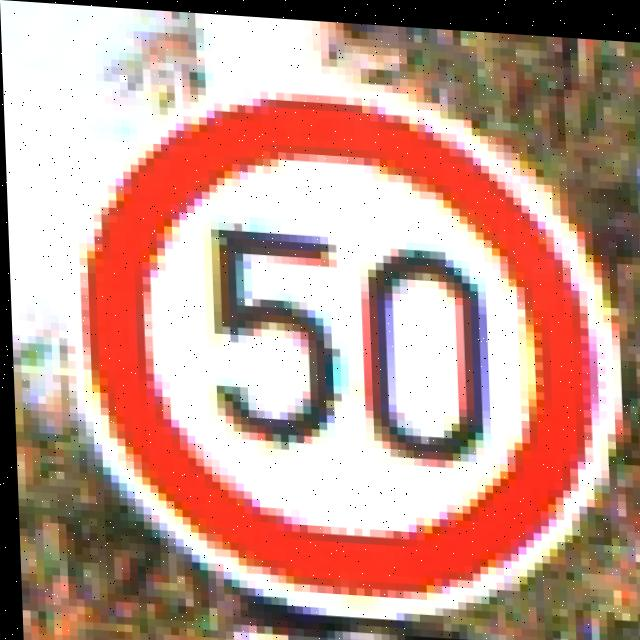speed_limit_50: (71, 70, 633, 632)
